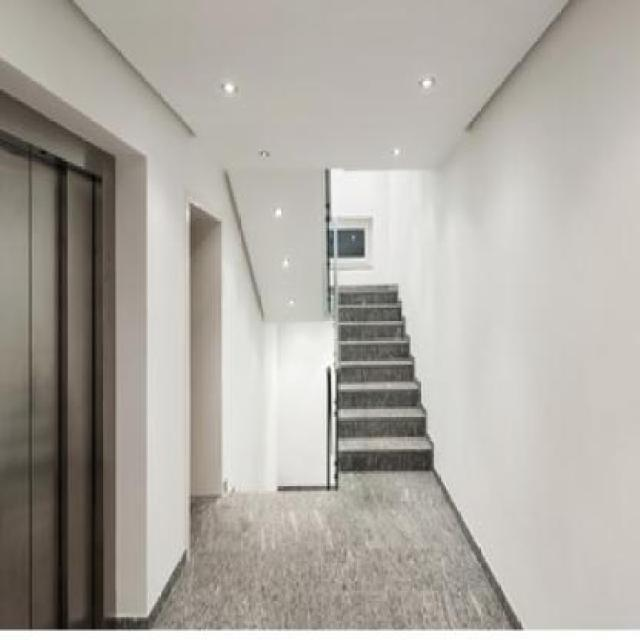stair: (316, 272, 430, 482)
